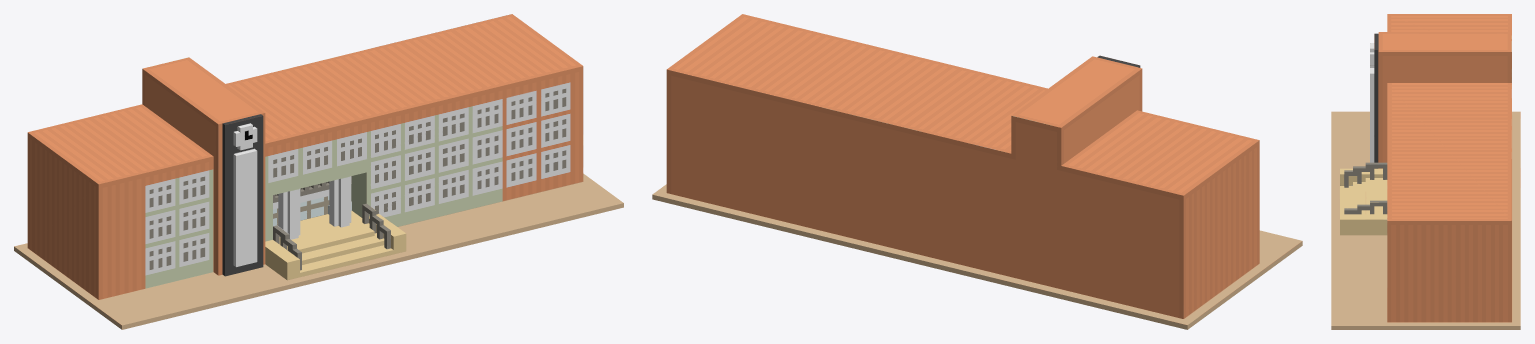
Rendered from kagosimadaigaku.glb.
3 renders of one model, left to right at view 1: azimuth 30°, elevation 25°; view 2: azimuth 150°, elevation 25°; view 3: azimuth 270°, elevation 25°, orthographic. The views are drawn at different scales.
Visible parts, largest first — view 1: kagosimadaigaku; view 2: kagosimadaigaku; view 3: kagosimadaigaku.
Part boxes in pixels (x1=…): kagosimadaigaku: x1=14, y1=14, x2=623, y2=329; kagosimadaigaku: x1=652, y1=14, x2=1302, y2=329; kagosimadaigaku: x1=1331, y1=14, x2=1520, y2=329.
Size of the model in its own units: 2.36 by 0.7 by 0.88.
1 material, 1 textured.
